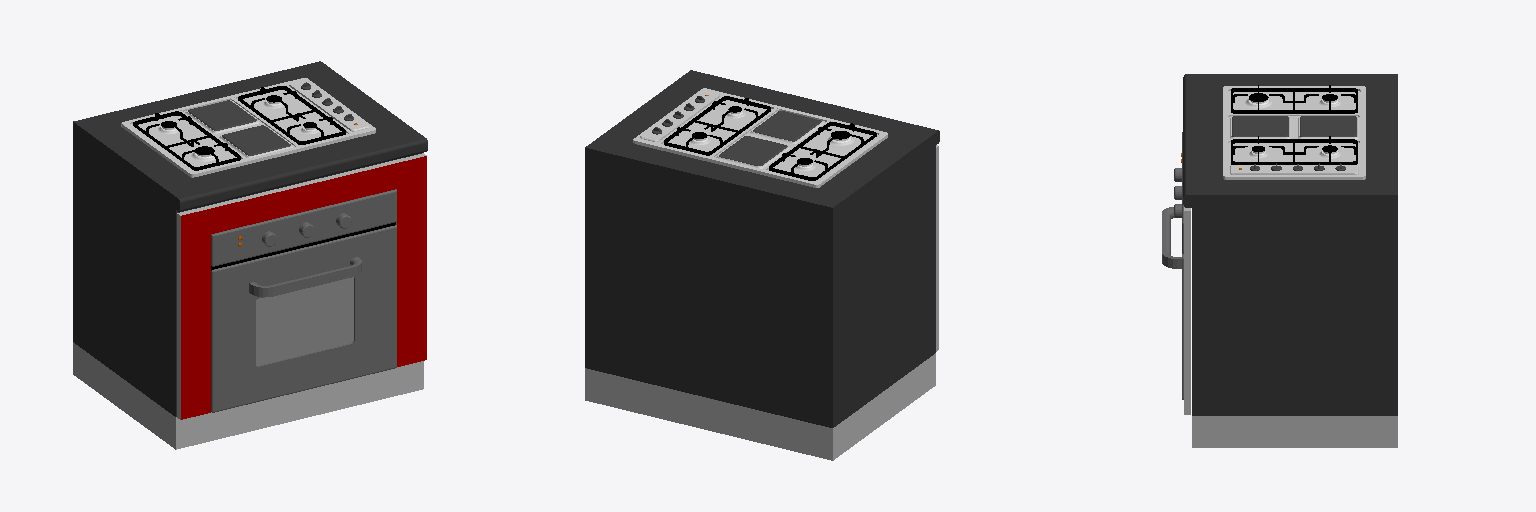
Rendered from cooker.obj.
3 renders of one model, left to right at view 1: azimuth 30°, elevation 25°; view 2: azimuth 150°, elevation 25°; view 3: azimuth 270°, elevation 25°, orthographic.
Visible parts, largest first — view 1: Box10_2, ChamferBox02_7, Line0911_5, Line15_1, Box11_3, Box12_10, Rectangle02_16, ChamferBox01_6, Line09_4, Loft05_9, Rectangle07_55, Rectangle08_56 (+3 smaller); view 2: Box10_2, Line15_1, Box11_3, Rectangle02_16, Rectangle08_56, Rectangle07_55, Rectangle01_17, Rectangle06_35, Rectangle04_18, Line09_4; view 3: Box10_2, Line15_1, Box11_3, Rectangle02_16, Line09_4, Rectangle08_56, Rectangle07_55, Rectangle04_18, Rectangle01_17, Rectangle06_35, Loft05_9.
Boxes of the visible parts, x1,y1,x2,y2 form: Box10_2: [73, 135, 421, 416]; ChamferBox02_7: [211, 225, 396, 412]; Line0911_5: [181, 156, 426, 419]; Line15_1: [73, 61, 427, 211]; Box11_3: [73, 342, 423, 449]; Box12_10: [256, 277, 353, 365]; Rectangle02_16: [121, 78, 375, 177]; ChamferBox01_6: [211, 189, 396, 266]; Line09_4: [177, 153, 426, 419]; Loft05_9: [249, 257, 361, 297]; Rectangle07_55: [188, 100, 256, 130]; Rectangle08_56: [222, 125, 290, 155]; Box10_2: [585, 146, 935, 427]; Line15_1: [585, 70, 939, 220]; Box11_3: [585, 353, 935, 460]; Rectangle02_16: [633, 88, 887, 187]; Rectangle08_56: [753, 111, 821, 141]; Rectangle07_55: [719, 136, 787, 165]; Rectangle01_17: [640, 91, 719, 141]; Rectangle06_35: [664, 96, 770, 155]; Rectangle04_18: [769, 122, 876, 180]; Line09_4: [936, 145, 938, 351]; Box10_2: [1192, 208, 1397, 415]; Line15_1: [1183, 74, 1397, 207]; Box11_3: [1192, 416, 1397, 447]; Rectangle02_16: [1223, 86, 1365, 179]; Line09_4: [1184, 207, 1190, 414]; Rectangle08_56: [1232, 116, 1288, 136]; Rectangle07_55: [1300, 116, 1356, 136]; Rectangle04_18: [1231, 88, 1357, 113]; Rectangle01_17: [1230, 165, 1358, 174]; Rectangle06_35: [1231, 139, 1357, 164]; Loft05_9: [1162, 207, 1181, 268].
Bounding box in the file's own units: 80 × 81.1 × 66.01.